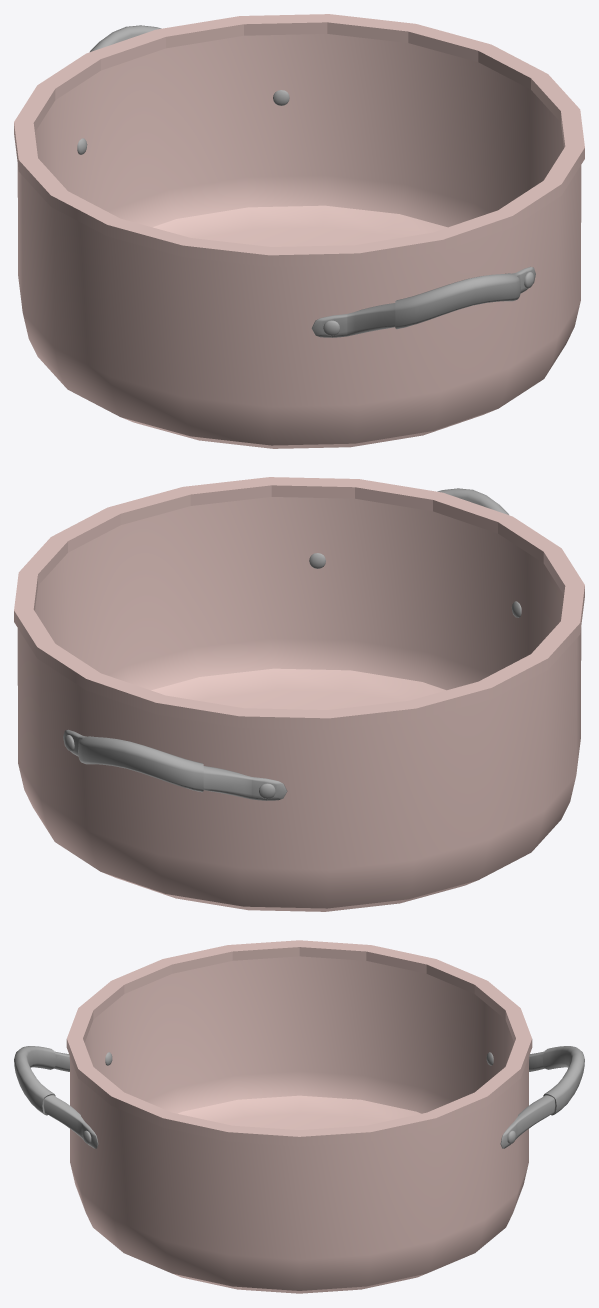
Rendered from Low_PotBody.fbx.
The picture shows the model from 3 angles, top to bottom: view 1: azimuth 30°, elevation 25°; view 2: azimuth 150°, elevation 25°; view 3: azimuth 270°, elevation 25°; orthographic projection. The views are drawn at different scales.
Parts seen in each view (by area): view 1: Lo_PotBase; view 2: Lo_PotBase; view 3: Lo_PotBase.
Boxes of the visible parts, x1,y1,x2,y2 form: Lo_PotBase: (14, 14, 584, 448); Lo_PotBase: (14, 477, 584, 911); Lo_PotBase: (14, 940, 584, 1293).
Bounding box in the file's own units: 1152 × 466 × 1414.
